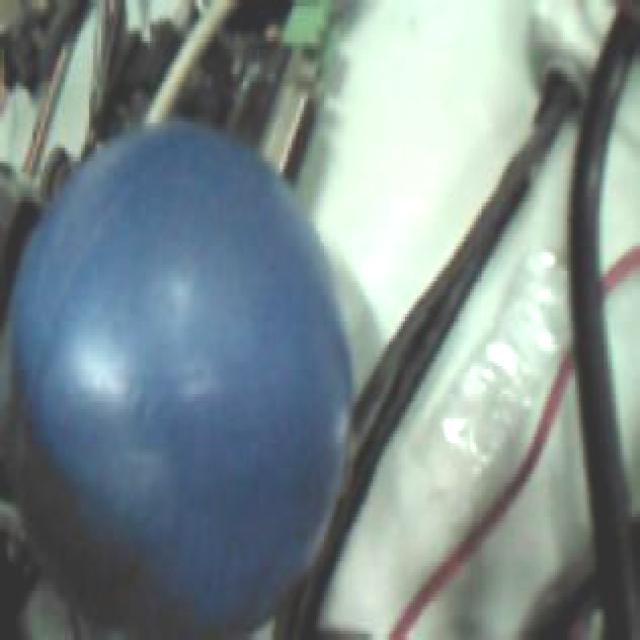BallPurple: (10, 123, 352, 634)
